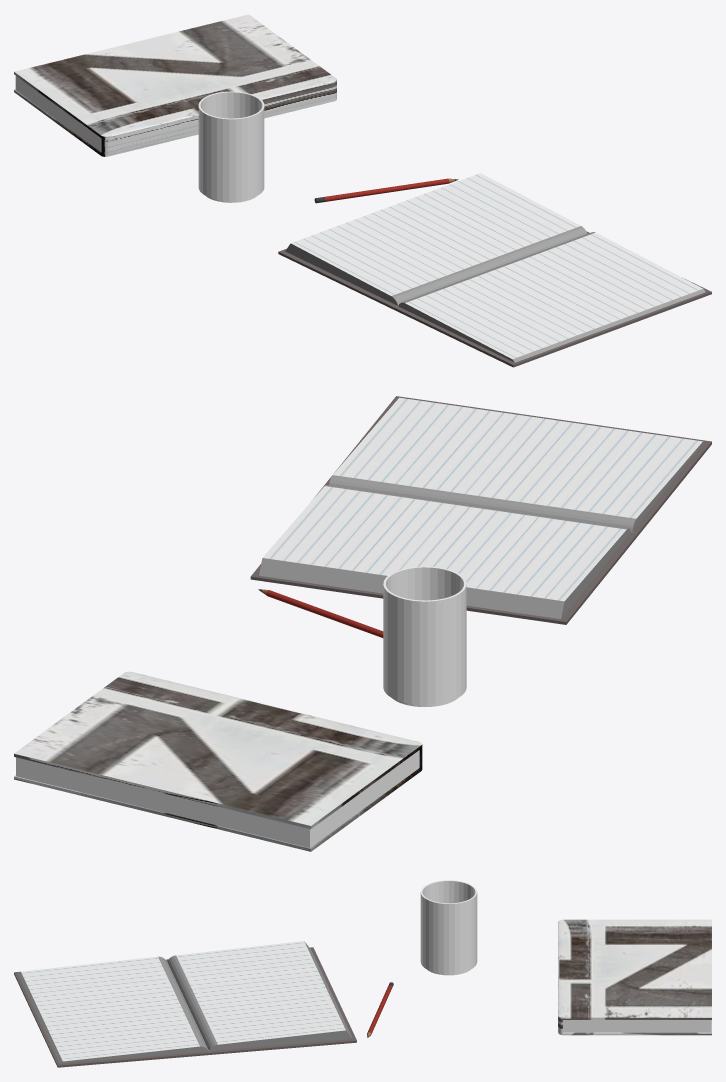
File: desk-props.glb
3 renders of one model, top to bottom at view 1: azimuth 30°, elevation 25°; view 2: azimuth 150°, elevation 25°; view 3: azimuth 270°, elevation 25°, orthographic. The views are drawn at different scales.
Visible parts, largest first — view 1: Notebook, Closed book, Holder, Pencil; view 2: Notebook, Closed book, Holder, Pencil; view 3: Notebook, Closed book, Holder.
Boxes of the visible parts, x1=… form: Notebook: x1=278, y1=173, x2=711, y2=367; Closed book: x1=14, y1=14, x2=336, y2=156; Holder: x1=198, y1=91, x2=264, y2=202; Pencil: x1=314, y1=178, x2=458, y2=203; Notebook: x1=250, y1=396, x2=711, y2=624; Closed book: x1=14, y1=671, x2=422, y2=851; Holder: x1=383, y1=566, x2=466, y2=706; Pencil: x1=258, y1=589, x2=383, y2=637; Notebook: x1=14, y1=941, x2=356, y2=1067; Closed book: x1=558, y1=919, x2=711, y2=1035; Holder: x1=420, y1=880, x2=477, y2=975.
Bounding box in the file's own units: 1.62 × 0.4193 × 3.64.
Materials: 9 (2 with a texture image).
